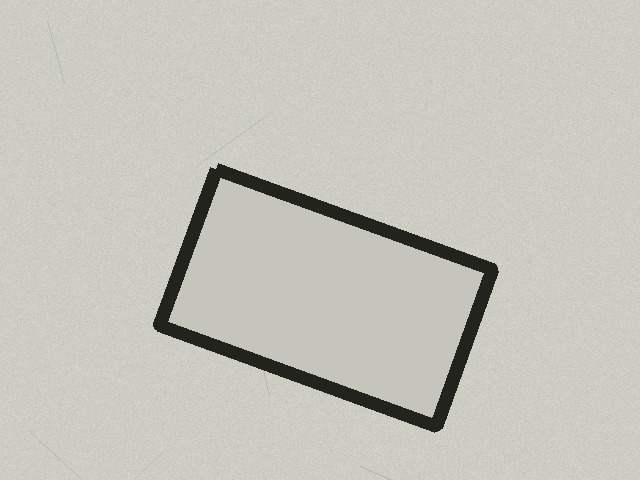parking_area: (159, 169, 492, 426)
